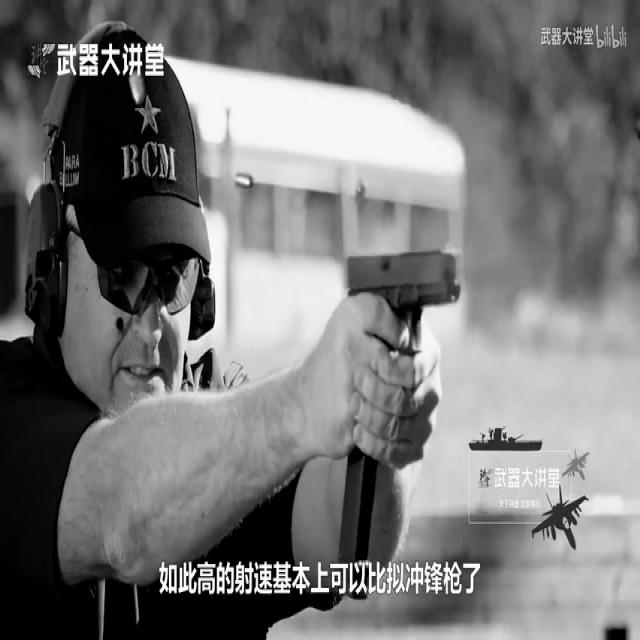Sub-machine-gun: (245, 221, 498, 592)
